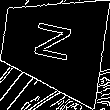N_W: (30, 20, 76, 68)
